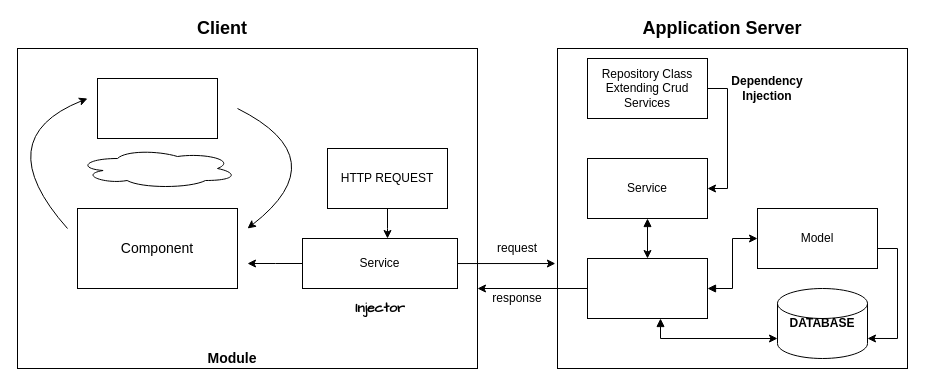
Image size: 925x386. Some labels were removed from this diagram. Here are the shapes that lost their labels. From the top down, the centre of each, then its label:
At pixel 157 108: "Template".
At pixel 157 168: "Metadata".
At pixel 647 288: "Controller".
